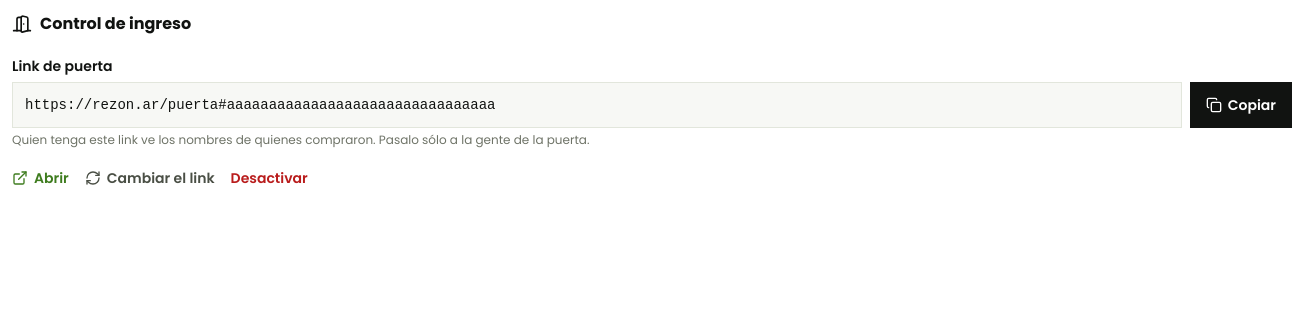
Test: LinkDePuerta › cambiar el link pide confirmación
Step 1. Click the button "Cambiar el link" → (150, 178), box [85,168,215,188]
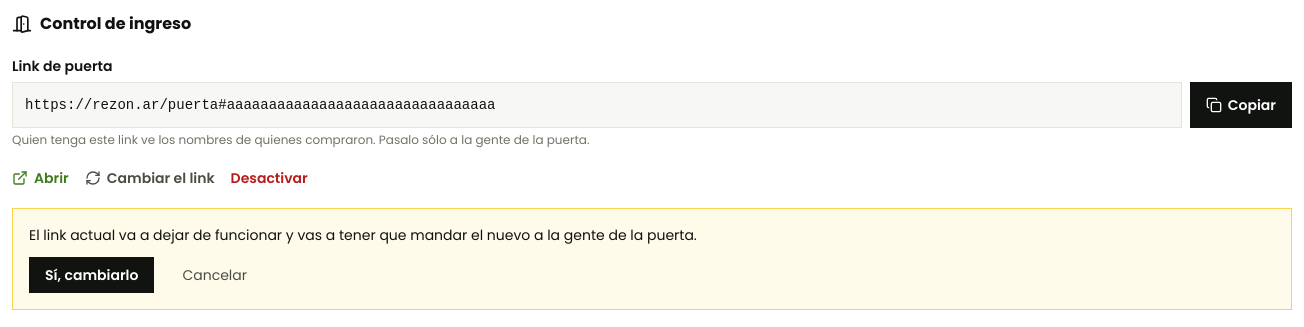
Check: the text "va a dejar de funcionar" is shown, box [29,225,697,245]
Step 2. Click the button "Sí, cambiarlo" → (92, 275), box [29,257,154,293]
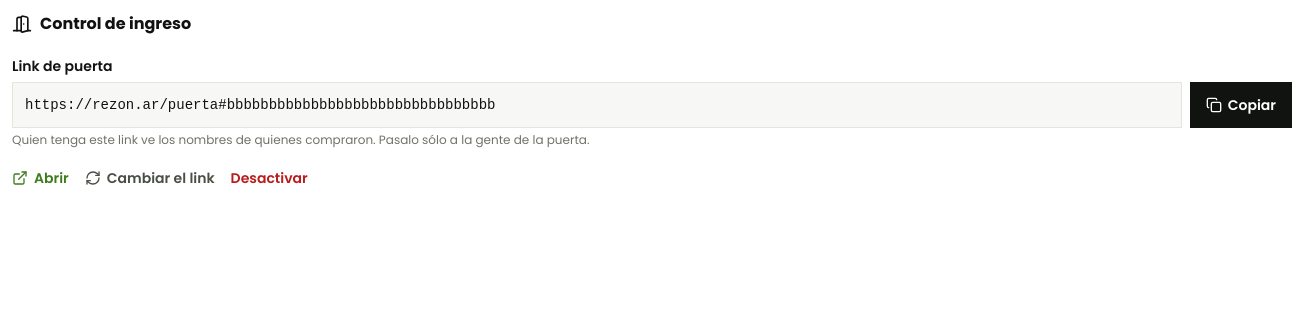
Check: the field showing "Link de puerta" is shown, box [12,82,1182,128]
